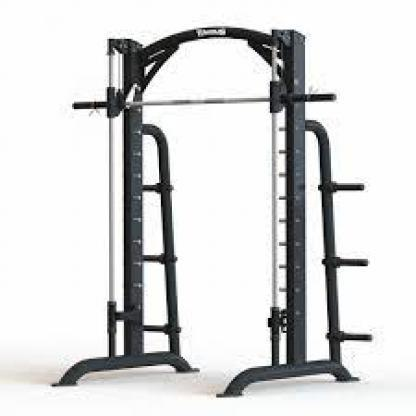smith machine: (53, 24, 374, 399)
